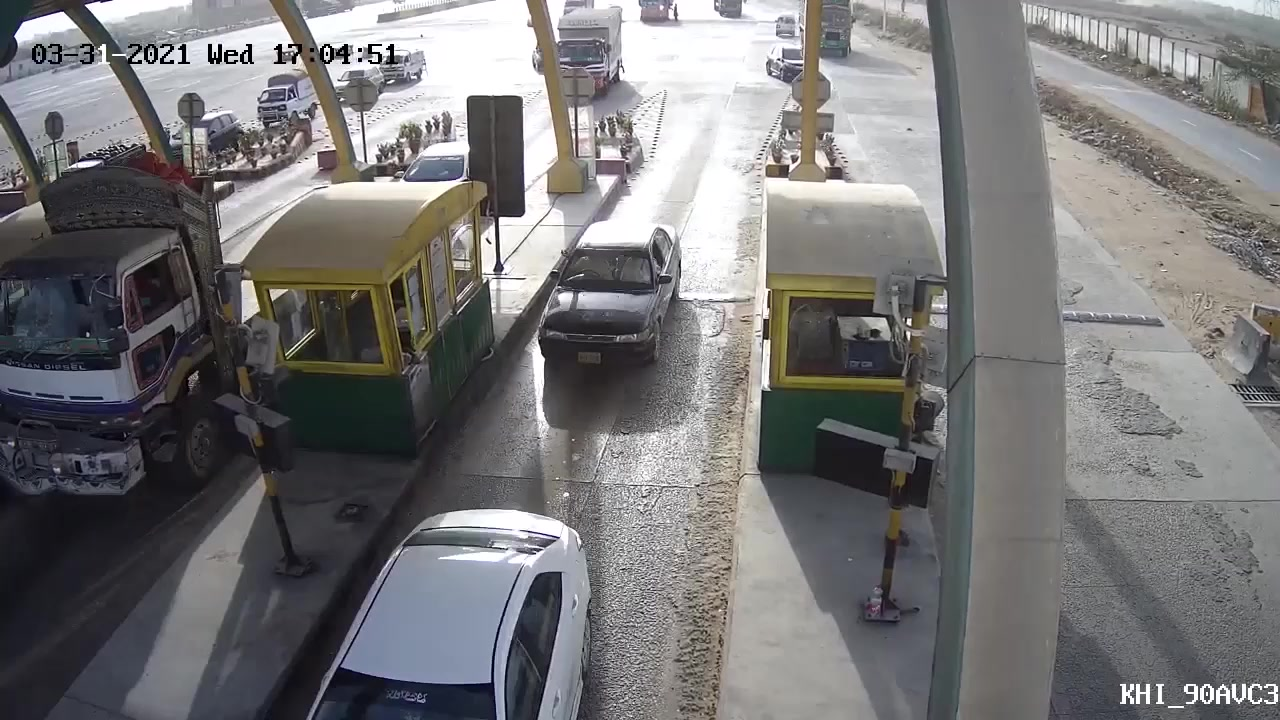F1: (539, 217, 685, 380)
